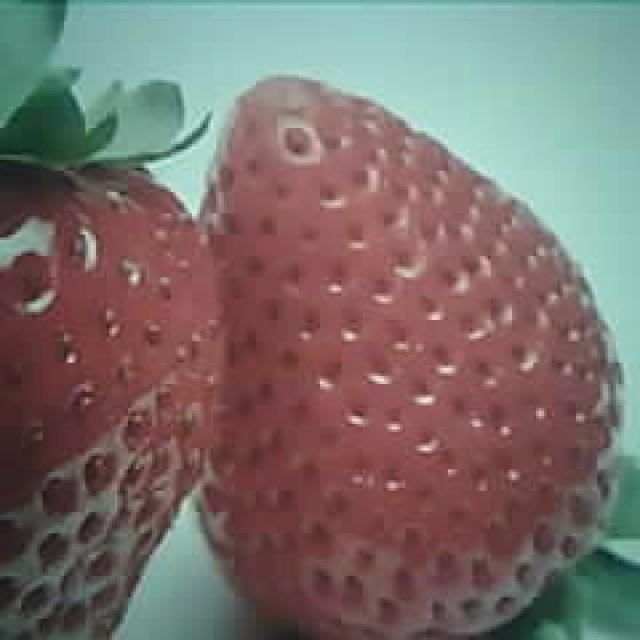Healthy Fruit: (196, 70, 627, 635), (0, 157, 220, 638)
